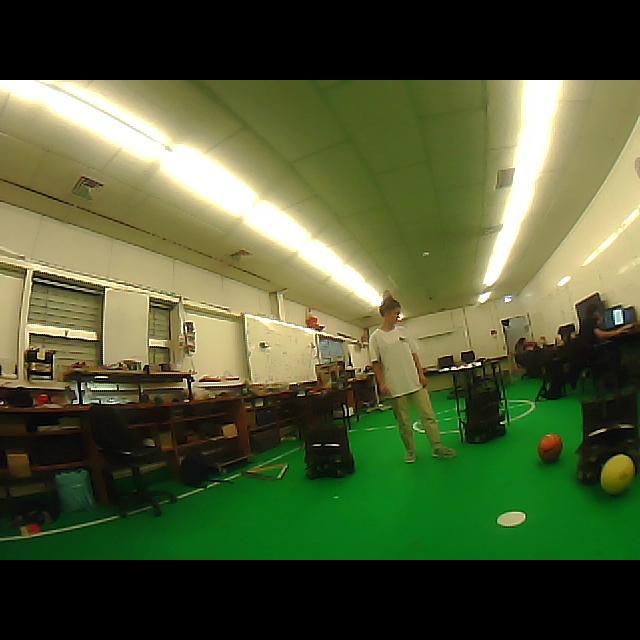ball: (600, 454, 635, 494), (538, 434, 562, 463)
robot: (578, 389, 640, 484), (298, 390, 355, 478), (452, 359, 510, 443)
